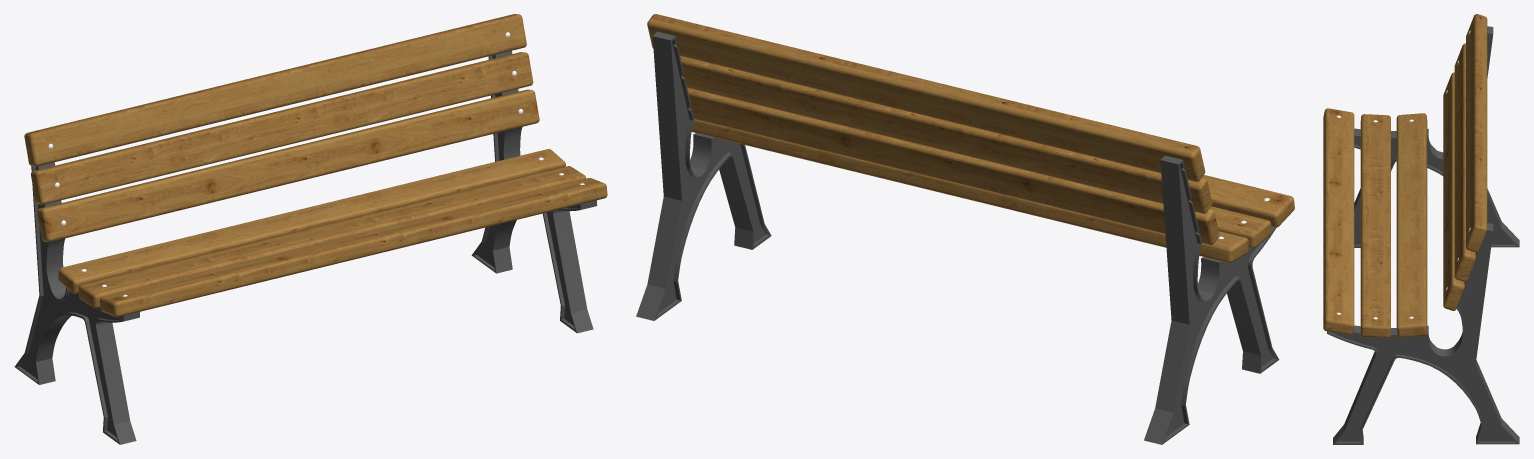
File: outdoor_bank.glb
3 views of the same model, side by side, from view 1: azimuth 30°, elevation 25°; view 2: azimuth 150°, elevation 25°; view 3: azimuth 270°, elevation 25° (orthographic). The views are drawn at different scales.
Visible parts, largest first — view 1: ChamferBox68, ChamferBox67, ChamferBox69, ChamferBox070, ChamferBox64, ChamferBox65, Line026, Line027; view 2: ChamferBox69, ChamferBox68, ChamferBox67, Line026, Line027, ChamferBox64, ChamferBox070, ChamferBox65; view 3: Line027, ChamferBox070, ChamferBox64, ChamferBox65, ChamferBox69, ChamferBox68, ChamferBox67, Line026.
Part boxes in pixels (x1,y1,x2,y2): ChamferBox68: (31, 52, 533, 204); ChamferBox67: (37, 89, 539, 241); ChamferBox69: (24, 14, 526, 166); ChamferBox070: (99, 178, 607, 317); ChamferBox64: (58, 149, 565, 294); ChamferBox65: (79, 166, 586, 308); Line026: (14, 162, 139, 444); Line027: (471, 50, 597, 333); ChamferBox69: (647, 14, 1205, 181); ChamferBox68: (680, 56, 1212, 213); ChamferBox67: (687, 88, 1219, 244); Line026: (1144, 155, 1279, 444); Line027: (636, 31, 771, 320); ChamferBox64: (691, 119, 1248, 262); ChamferBox070: (1202, 175, 1294, 227); ChamferBox65: (1210, 206, 1271, 248); Line027: (1327, 223, 1519, 444); ChamferBox070: (1323, 108, 1354, 334); ChamferBox64: (1396, 113, 1427, 337); ChamferBox65: (1360, 114, 1390, 338); ChamferBox69: (1466, 14, 1487, 252); ChamferBox68: (1454, 43, 1475, 281); ChamferBox67: (1443, 72, 1464, 310); Line026: (1354, 26, 1519, 247).
Size of the model in its own units: 2.14 by 1.05 by 0.8369.
3 materials, 1 textured.
